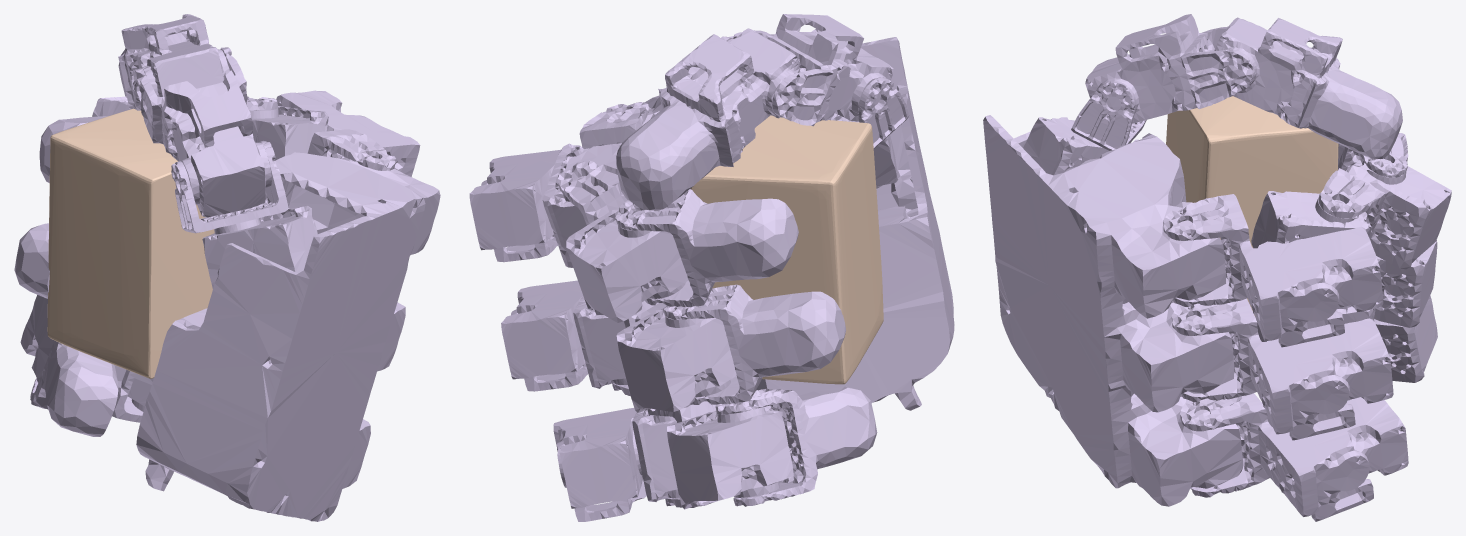
Rendered from 816b373b7fbbf2-closed.glb.
3 views of the same model, side by side, from view 1: azimuth 30°, elevation 25°; view 2: azimuth 150°, elevation 25°; view 3: azimuth 270°, elevation 25° (orthographic). The views are drawn at different scales.
Parts seen in each view (by area): view 1: LEAP_hand, world; view 2: LEAP_hand, world; view 3: LEAP_hand, world.
Part boxes in pixels (<box>): LEAP_hand: <box>14,14,440,521</box>; world: <box>47,108,214,378</box>; LEAP_hand: <box>469,14,954,521</box>; world: <box>690,115,883,384</box>; LEAP_hand: <box>983,14,1451,521</box>; world: <box>1166,96,1338,316</box>.
Size of the model in its own units: 0.1469 by 0.1766 by 0.1692.
